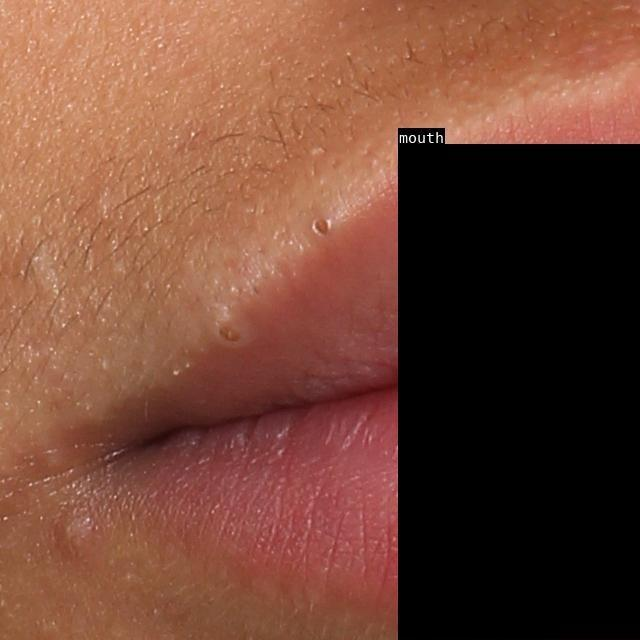comedo: (304, 209, 338, 246), (213, 326, 241, 351)
papule: (52, 513, 98, 561)
